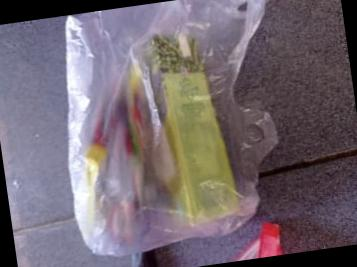Plastik: (40, 0, 293, 260)
